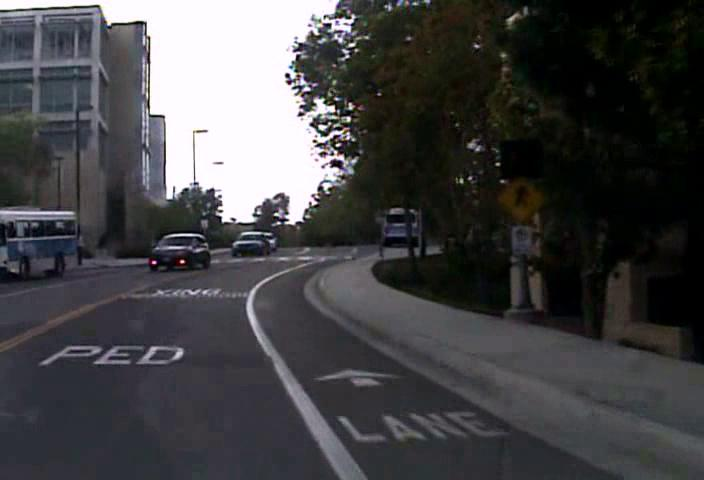pedestrianCrossing: (497, 174, 546, 224)
